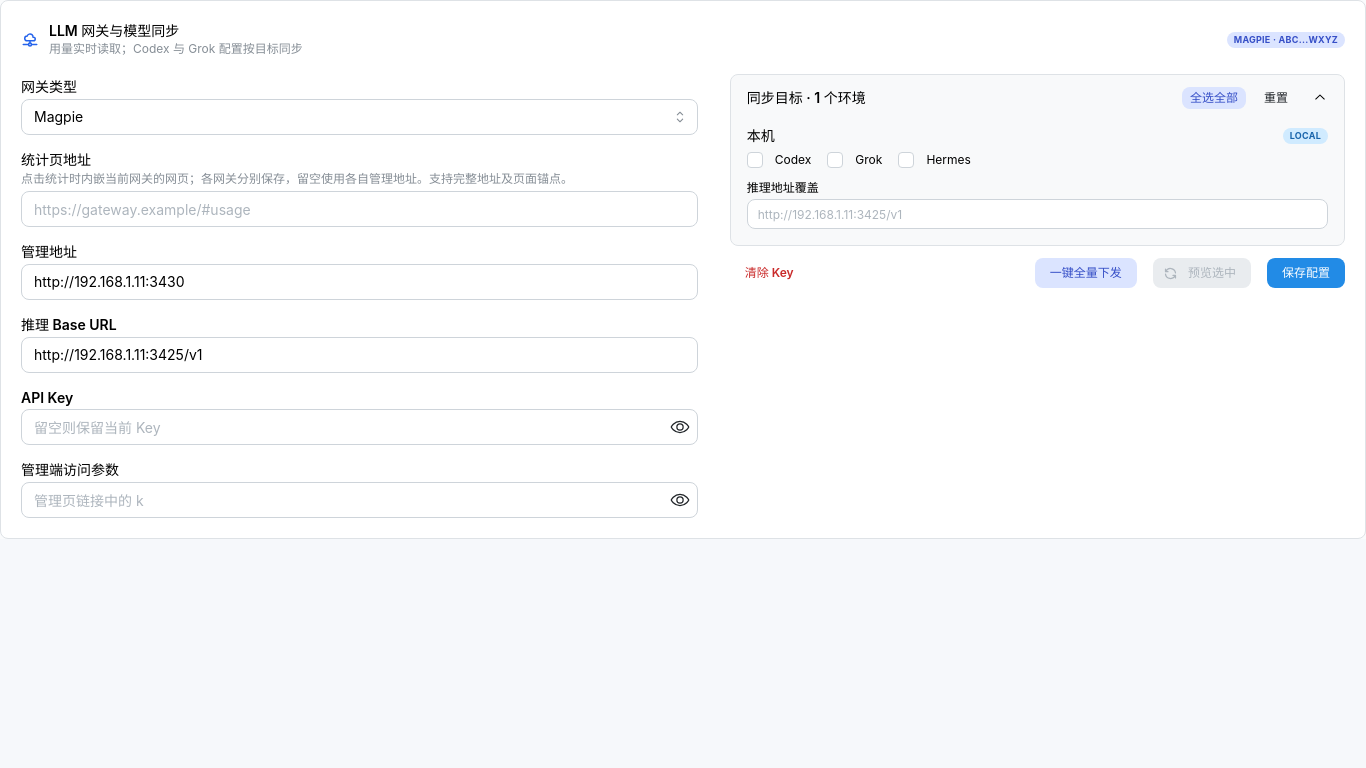
renders removed models and the config diff accordion when present
This screenshot has width=1366, height=768.
Click the checkbox labelled "Codex". click: (755, 160)
box: x1=747 y1=152 x2=763 y2=168
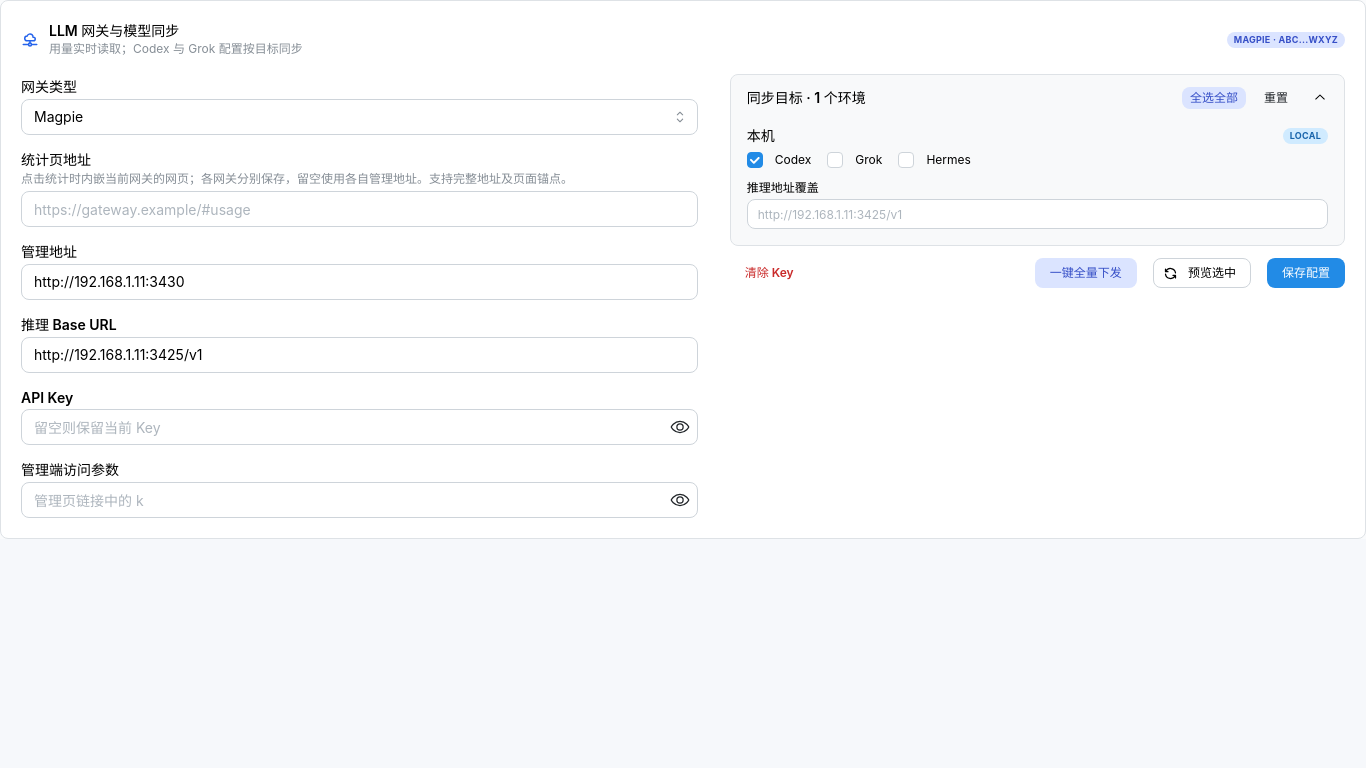
Click the button "预览选中". click: (1202, 273)
box: x1=1153 y1=258 x2=1251 y2=288
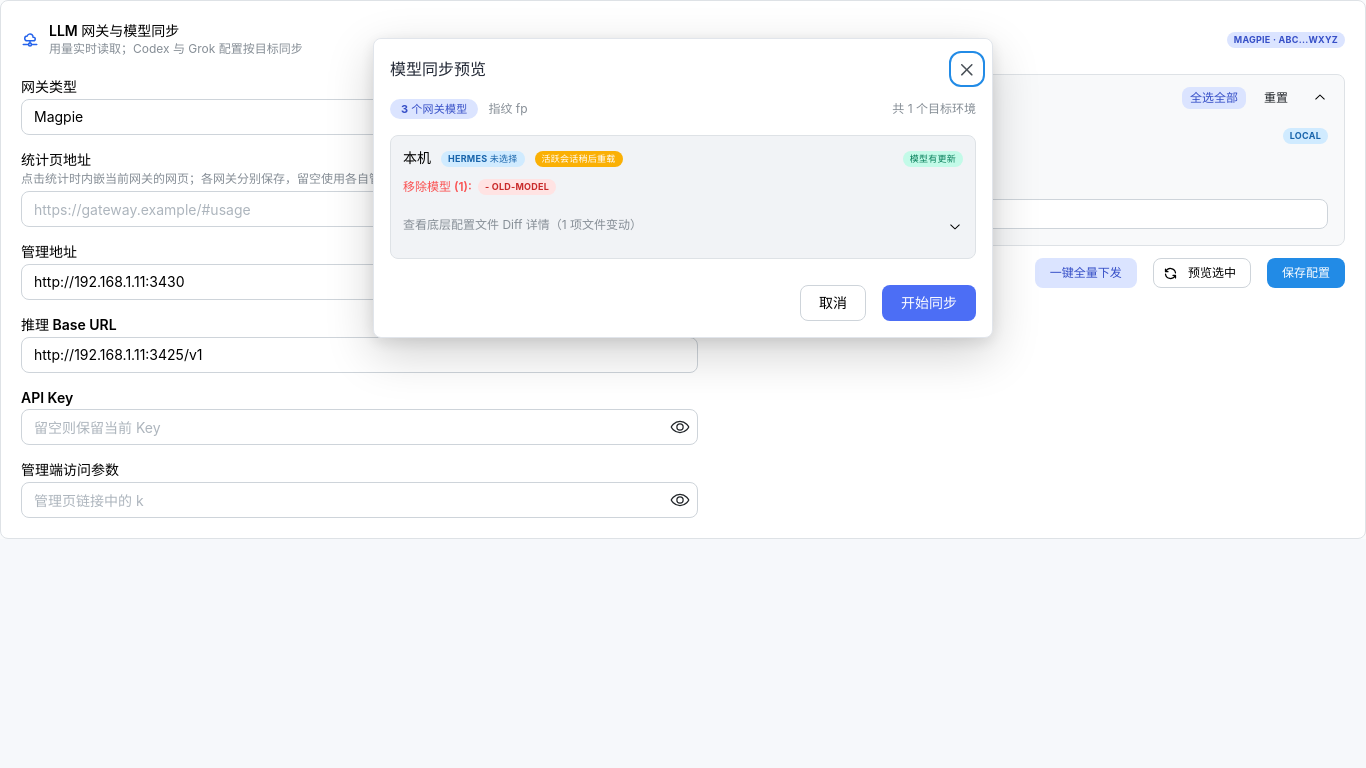
Expected: the text "移除模型 (1):" is shown, x1=403 y1=179 x2=472 y2=196
Expected: the text "- old-model" is shown, x1=485 y1=180 x2=549 y2=194
Expected: the text "查看底层配置文件 Diff 详情（1 项文件变动）" is shown, x1=403 y1=218 x2=642 y2=232
